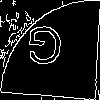G: (24, 25, 64, 74)
